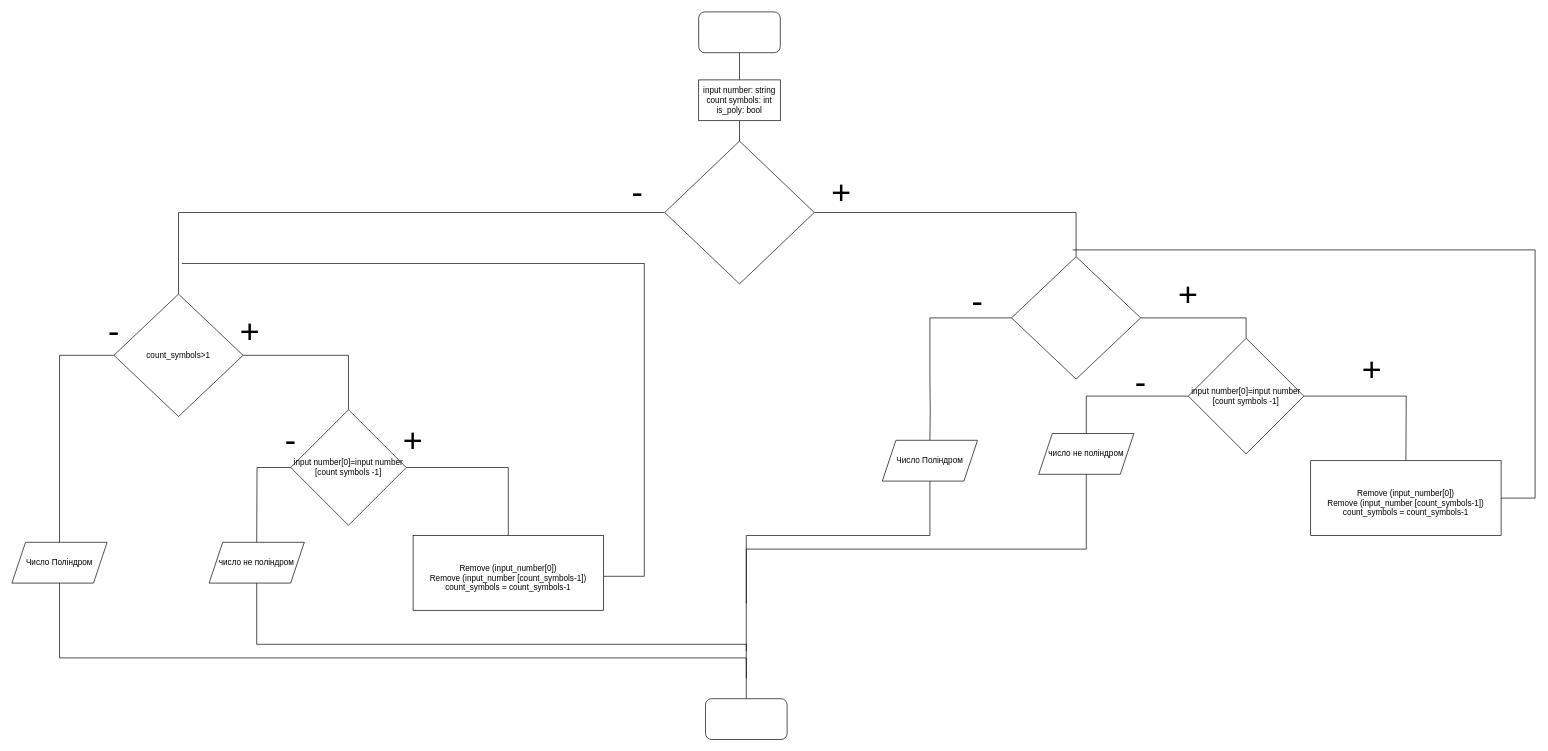
This 1548x751 diagram has some shape labels left out. The centre of each missing label's shape, as x and y in pixels:
"count symbols % 2 =0" belongs at point 739,212.
"count symbols>0" belongs at point 1076,317.
"end" belongs at point 746,719.
"start" belongs at point 739,32.
